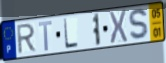1: (91, 12, 102, 48)
L: (63, 17, 80, 50)
R: (16, 22, 38, 56)
S: (128, 8, 151, 43)
T: (37, 20, 53, 53)
X: (108, 9, 129, 46)
